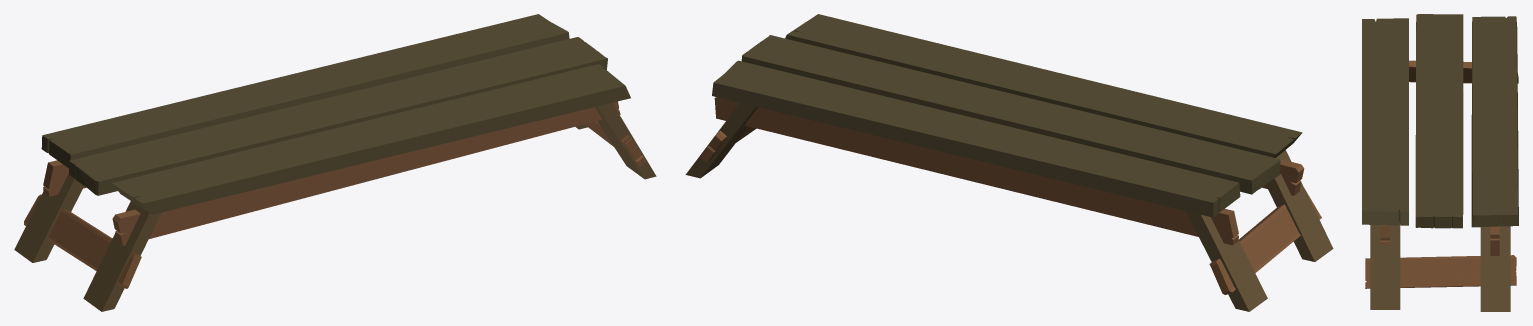
Rendered from workbench.gltf.
The picture shows the model from 3 angles, left to right: view 1: azimuth 30°, elevation 25°; view 2: azimuth 150°, elevation 25°; view 3: azimuth 270°, elevation 25°; orthographic projection. The views are drawn at different scales.
Parts seen in each view (by area): view 1: Cube.001, Cube, Cube.002, Cube.010, Cube.004, Cube.008, Cube.003, Cube.005, Cube.009, Cube.007; view 2: Cube.002, Cube, Cube.001, Cube.009, Cube.003, Cube.008, Cube.004, Cube.006, Cube.010, Cube.007; view 3: Cube, Cube.002, Cube.001, Cube.007, Cube.005, Cube.006, Cube.008, Cube.009, Cube.010.
Part boxes in pixels (x1,y1,x2,y2): Cube.001: [111, 64, 630, 214]; Cube: [69, 37, 607, 195]; Cube.002: [41, 14, 569, 168]; Cube.010: [112, 101, 620, 245]; Cube.004: [83, 201, 161, 311]; Cube.008: [24, 194, 141, 288]; Cube.003: [14, 173, 84, 262]; Cube.005: [594, 103, 656, 179]; Cube.009: [43, 160, 86, 196]; Cube.007: [585, 121, 646, 166]; Cube.002: [712, 60, 1240, 217]; Cube: [741, 35, 1280, 194]; Cube.001: [785, 14, 1302, 157]; Cube.009: [714, 97, 1238, 245]; Cube.003: [1185, 211, 1267, 311]; Cube.008: [1209, 188, 1321, 294]; Cube.004: [1266, 150, 1333, 261]; Cube.006: [685, 103, 757, 178]; Cube.010: [1262, 159, 1304, 195]; Cube.007: [700, 126, 756, 163]; Cube: [1415, 14, 1463, 228]; Cube.002: [1471, 16, 1518, 227]; Cube.001: [1362, 18, 1408, 225]; Cube.007: [1365, 255, 1516, 288]; Cube.005: [1370, 221, 1400, 309]; Cube.006: [1480, 226, 1510, 311]; Cube.008: [1409, 60, 1518, 83]; Cube.009: [1490, 226, 1499, 255]; Cube.010: [1380, 225, 1389, 245].
Bounding box in the file's own units: 13.39 × 2.38 × 3.97.
